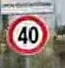limite 40: (7, 14, 48, 56)
